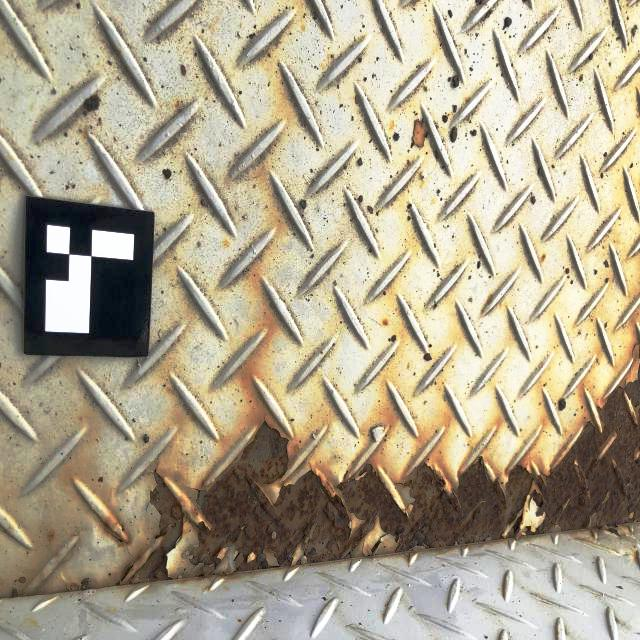Corrosion: (118, 374, 640, 584), (64, 573, 92, 592)
